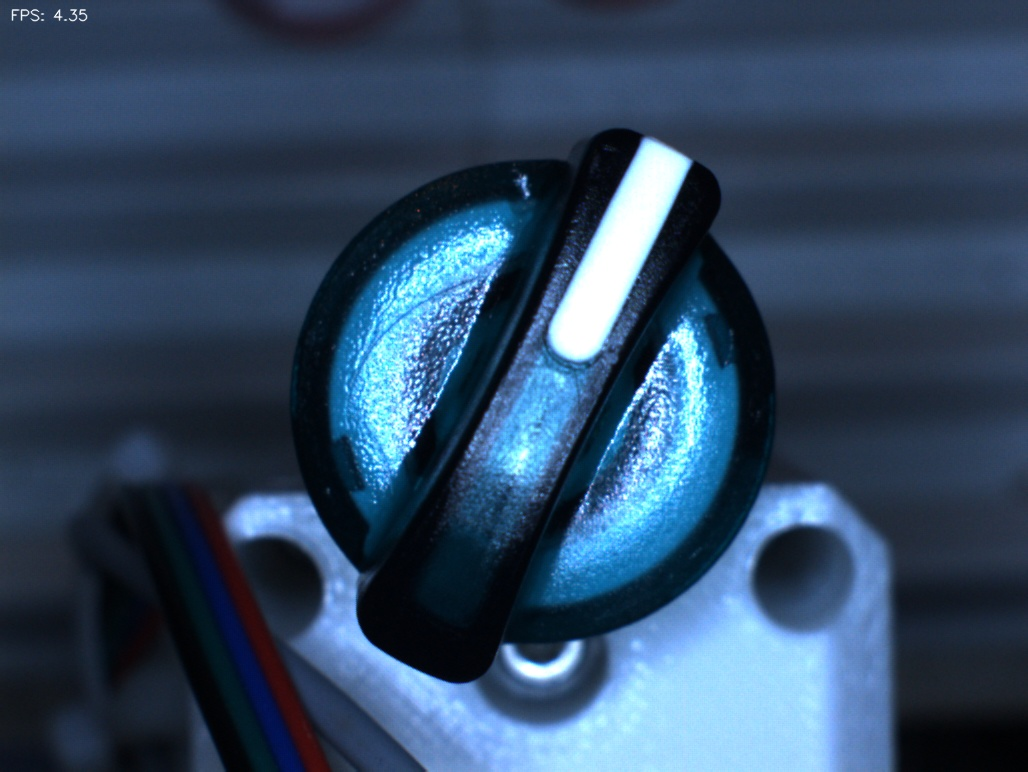Choc: (482, 152, 551, 221)
